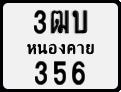letters: (51, 10, 69, 34), (72, 10, 88, 34), (33, 9, 46, 34), (54, 60, 67, 85), (72, 60, 85, 85), (35, 60, 47, 85)
province: (27, 43, 95, 55)
